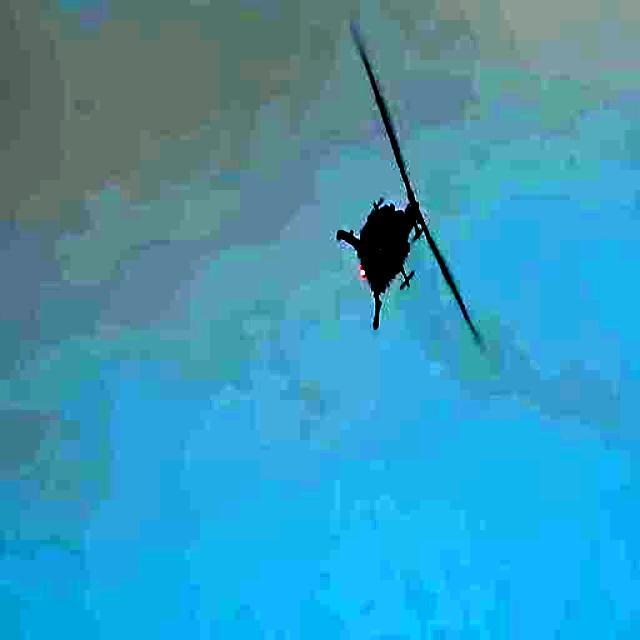drone: (322, 49, 485, 365)
